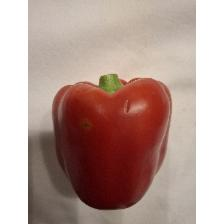Paprika: (50, 69, 174, 214)
